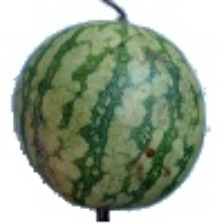watermelon: (25, 37, 189, 206)
